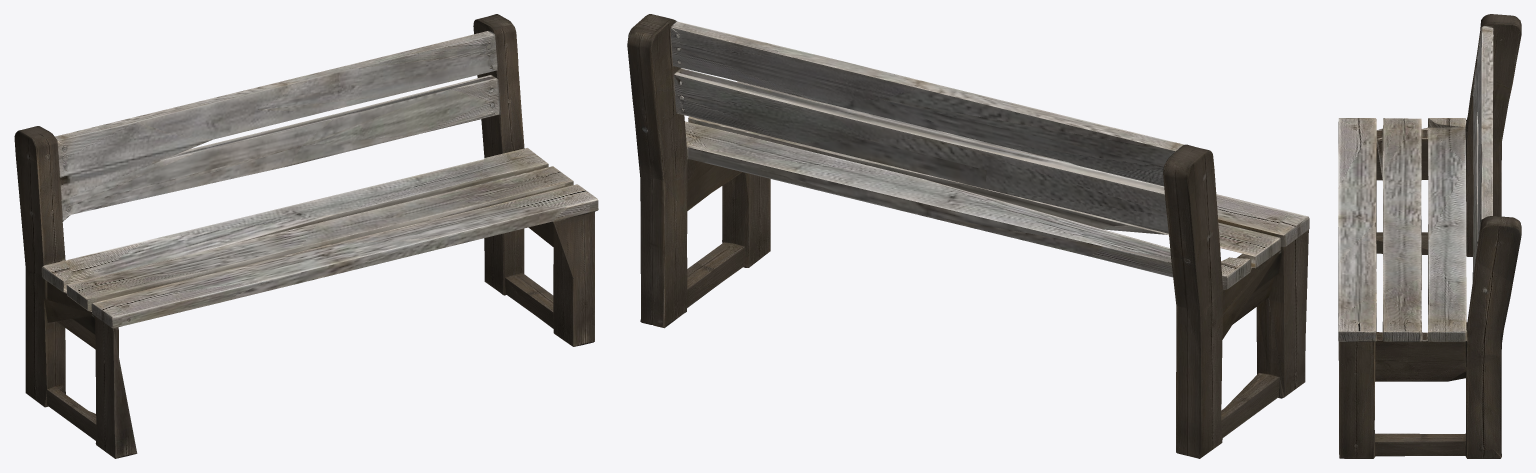
File: bench.glb
3 views of the same model, side by side, from view 1: azimuth 30°, elevation 25°; view 2: azimuth 150°, elevation 25°; view 3: azimuth 270°, elevation 25° (orthographic). The views are drawn at different scales.
Parts seen in each view (by area): view 1: ground; view 2: ground; view 3: ground.
Part boxes in pixels (x1,y1,x2,y2): ground: (14, 14, 598, 458); ground: (627, 14, 1309, 458); ground: (1338, 14, 1521, 458).
Bounding box in the file's own units: 1.9 × 0.9697 × 0.6879.
Materials: 1 (1 with a texture image).
